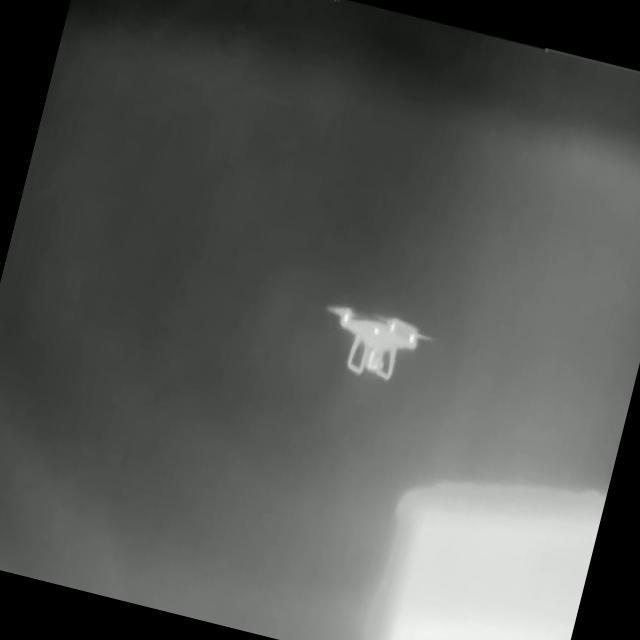DRONE: (323, 302, 436, 381)
